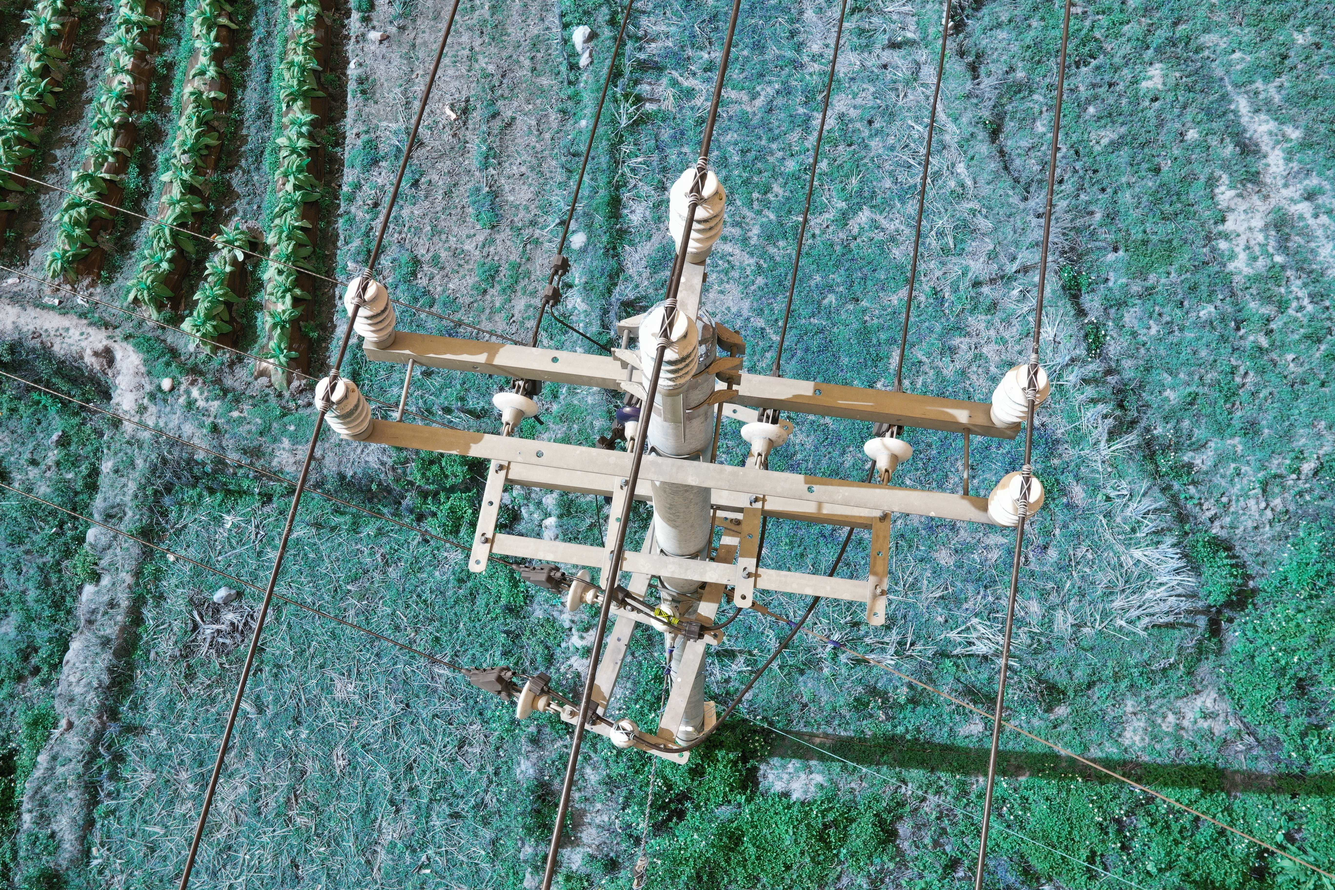severe_soiling_no_discharge_whole: (662, 162, 727, 263), (634, 299, 703, 394), (310, 373, 375, 444), (343, 276, 397, 350), (608, 717, 640, 749), (648, 603, 681, 634)
